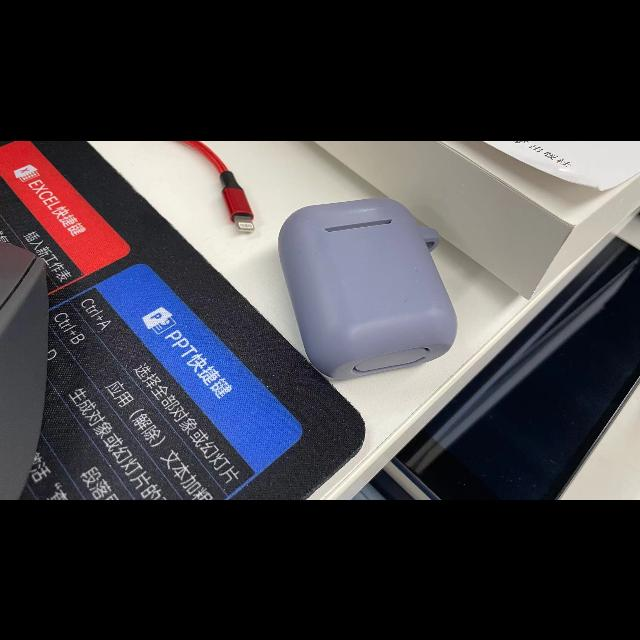airpods: (277, 196, 456, 377)
